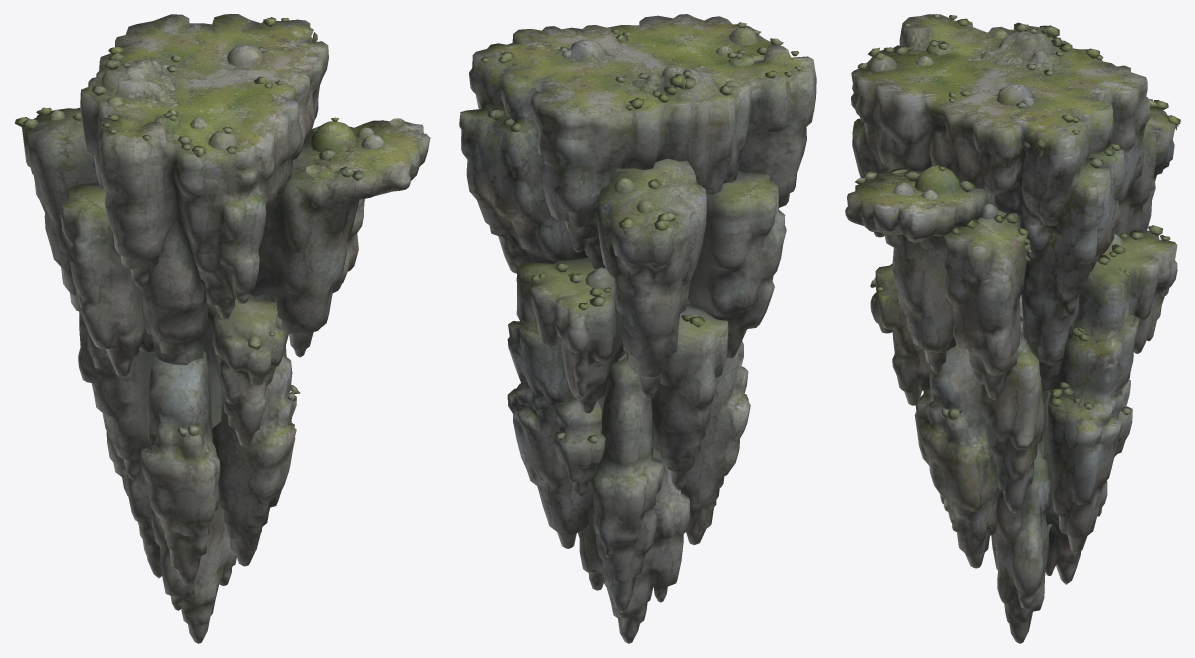
File: pinnacle__variant__v2.glb
3 views of the same model, side by side, from view 1: azimuth 30°, elevation 25°; view 2: azimuth 150°, elevation 25°; view 3: azimuth 270°, elevation 25° (orthographic).
Visible parts, largest first — view 1: tripo_node_3b57edc0-7f66-404b-b127-cab635b66949; view 2: tripo_node_3b57edc0-7f66-404b-b127-cab635b66949; view 3: tripo_node_3b57edc0-7f66-404b-b127-cab635b66949.
Boxes of the visible parts, bbox=[...] form: tripo_node_3b57edc0-7f66-404b-b127-cab635b66949: bbox=[14, 14, 430, 643]; tripo_node_3b57edc0-7f66-404b-b127-cab635b66949: bbox=[459, 14, 816, 643]; tripo_node_3b57edc0-7f66-404b-b127-cab635b66949: bbox=[845, 14, 1180, 643].
Size of the model in its own units: 0.5506 by 1 by 0.5194.
1 material, 1 textured.
